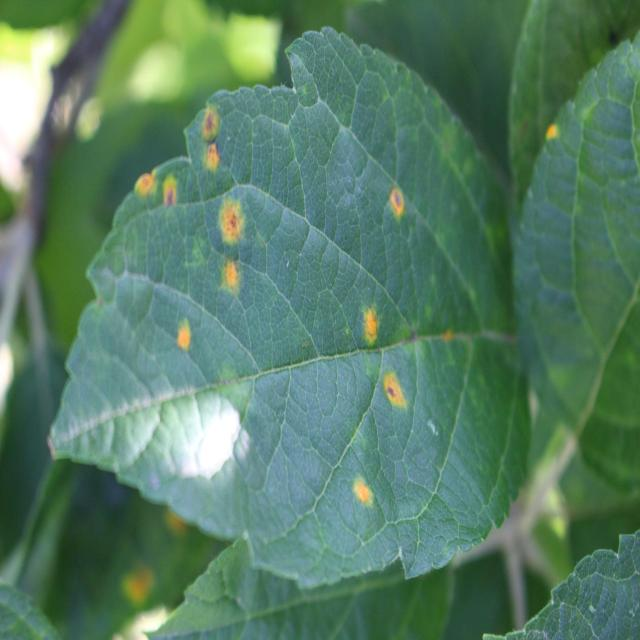Rust: (125, 563, 163, 611), (217, 192, 244, 252), (348, 471, 380, 518), (382, 369, 413, 415), (359, 302, 384, 356), (160, 511, 195, 549), (172, 316, 200, 362), (220, 256, 248, 294), (198, 106, 224, 145), (200, 140, 230, 172), (134, 167, 158, 203), (163, 164, 178, 221), (386, 184, 408, 220), (436, 319, 456, 353), (544, 120, 562, 150)
